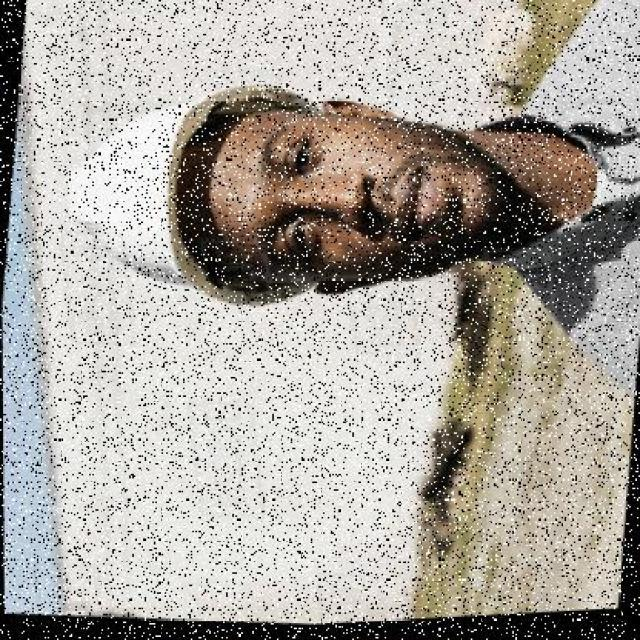helmet: (56, 55, 310, 329)
